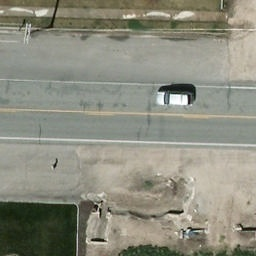car: (155, 88, 193, 108)
